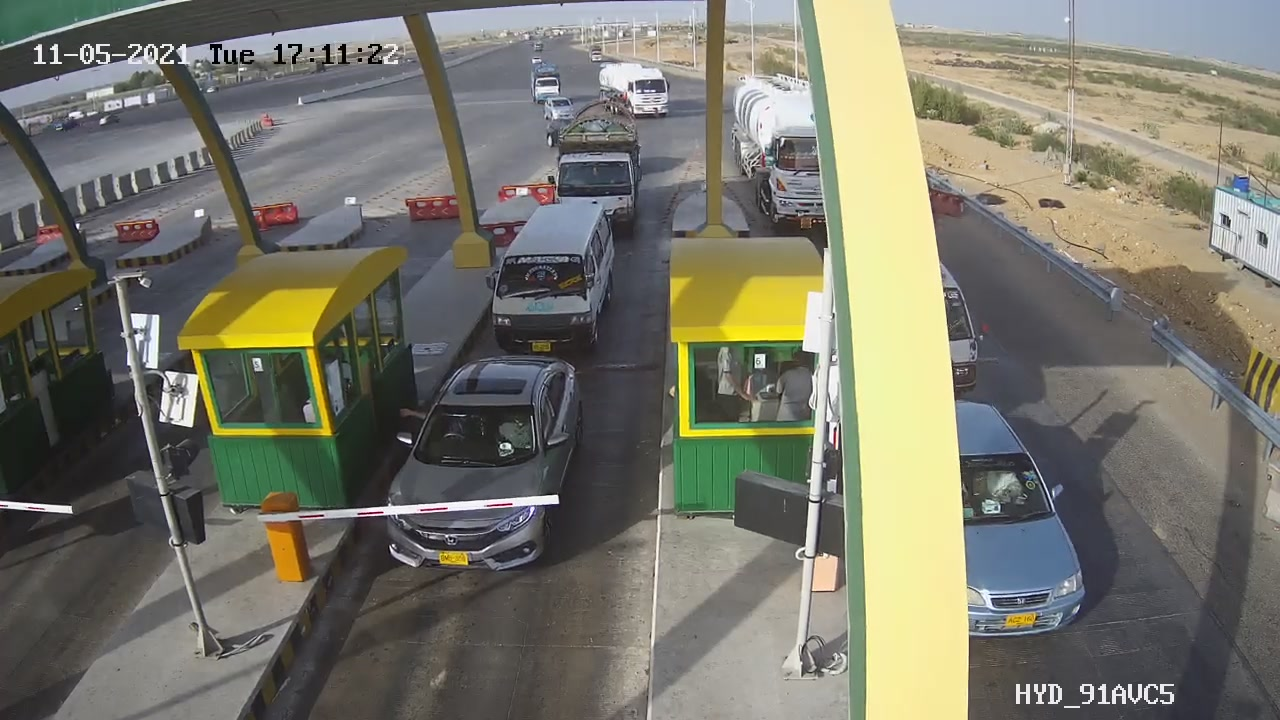F1: (359, 338, 601, 595)
F2: (468, 200, 621, 346)
